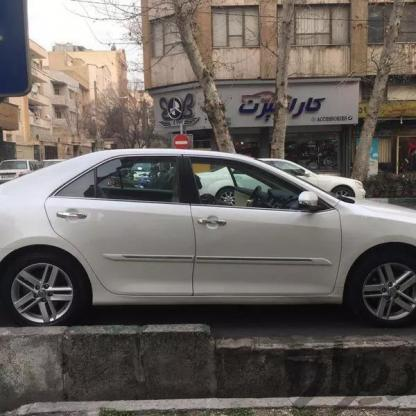Car: (0, 140, 416, 348), (201, 160, 388, 209)
